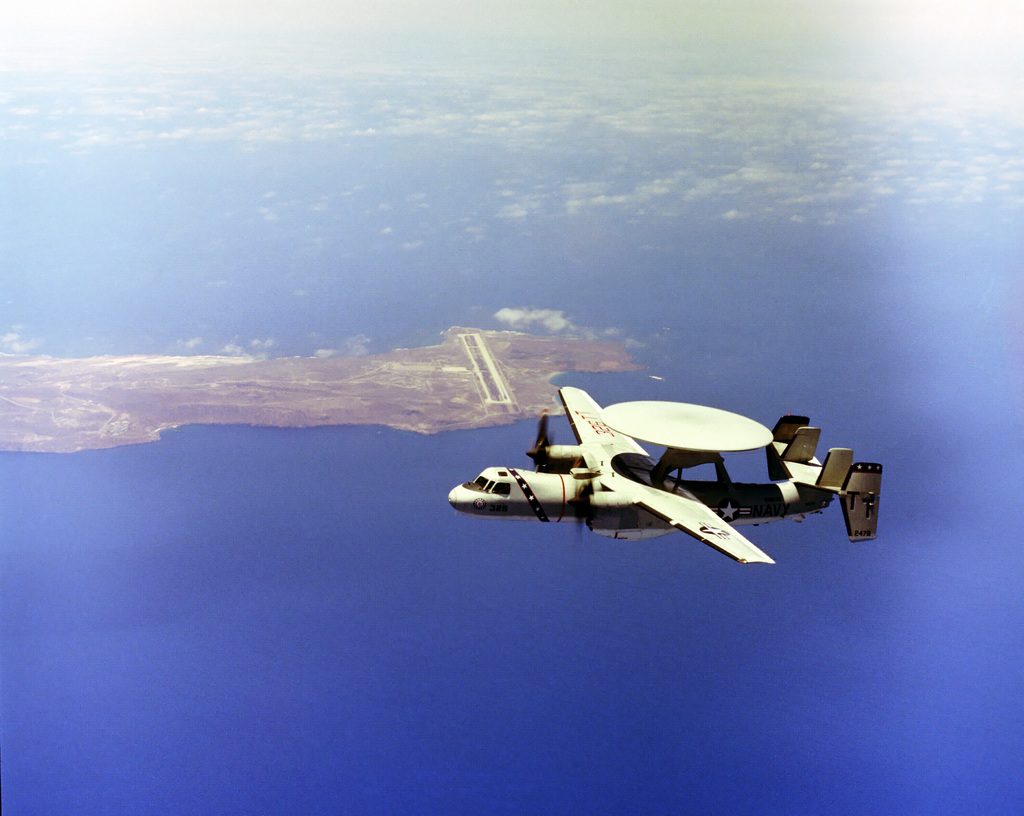E2: (447, 386, 883, 565)
